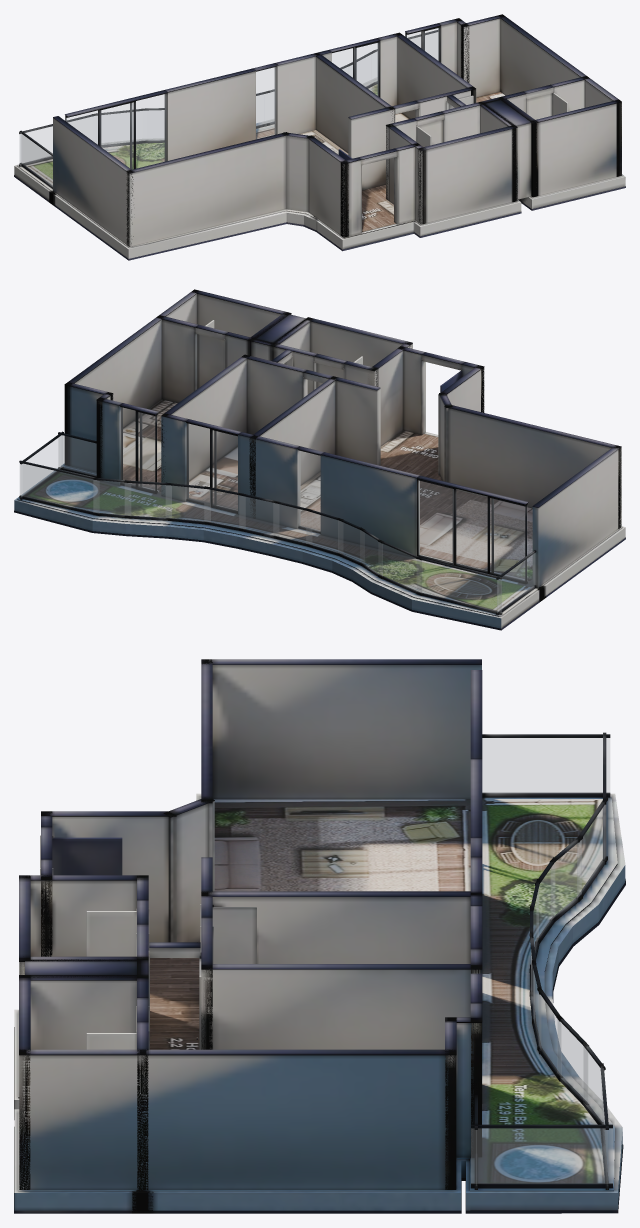
3 views of the same model, one above another, from view 1: azimuth 30°, elevation 25°; view 2: azimuth 150°, elevation 25°; view 3: azimuth 270°, elevation 25° (orthographic). The views are drawn at different scales.
Parts seen in each view (by area): view 1: plan, glass0_m, glass2_m, glass1_m, railg2_m, railg5_m, railg1_m, glass3_m, railg6_m, railg12_m; view 2: plan, glass0_m, glass2_m, railg2_m, railg14_m, glass3_m, railg12_m, railg11_m, glass1_m, railg5_m, railg10_m, railg9_m (+8 smaller); view 3: plan, railg0_m, railg1_m, railg6_m, railg12_m, railg5_m, railg11_m, railg13_m, railg7_m.
Boxes of the visible parts, x1,y1,x2,y2 form: plan: (14,14,625,260); glass0_m: (66,94,166,169); glass2_m: (332,43,378,95); glass1_m: (256,67,275,138); railg2_m: (19,117,93,163); railg5_m: (96,111,142,144); railg1_m: (21,134,52,185); glass3_m: (406,28,438,60); railg6_m: (147,110,163,140); railg12_m: (357,55,371,86); plan: (14,289,625,630); glass0_m: (419,481,524,580); glass2_m: (187,423,237,510); railg2_m: (417,559,501,612); railg14_m: (20,464,99,512); glass3_m: (121,407,154,490); railg12_m: (125,483,171,517); railg11_m: (166,485,210,521); glass1_m: (299,451,320,530); railg5_m: (379,542,421,592); railg10_m: (205,489,245,528); railg9_m: (239,496,278,536); plan: (14,659,625,1213); railg0_m: (471,1128,612,1183); railg1_m: (482,738,609,793); railg6_m: (551,840,581,919); railg12_m: (557,1019,587,1103); railg5_m: (577,805,606,898); railg11_m: (539,994,561,1076); railg13_m: (583,1047,603,1123); railg7_m: (537,863,554,940).
Bounding box in the file's own units: 14.33 × 2.62 × 9.28.
Materials: 2 (1 with a texture image).
